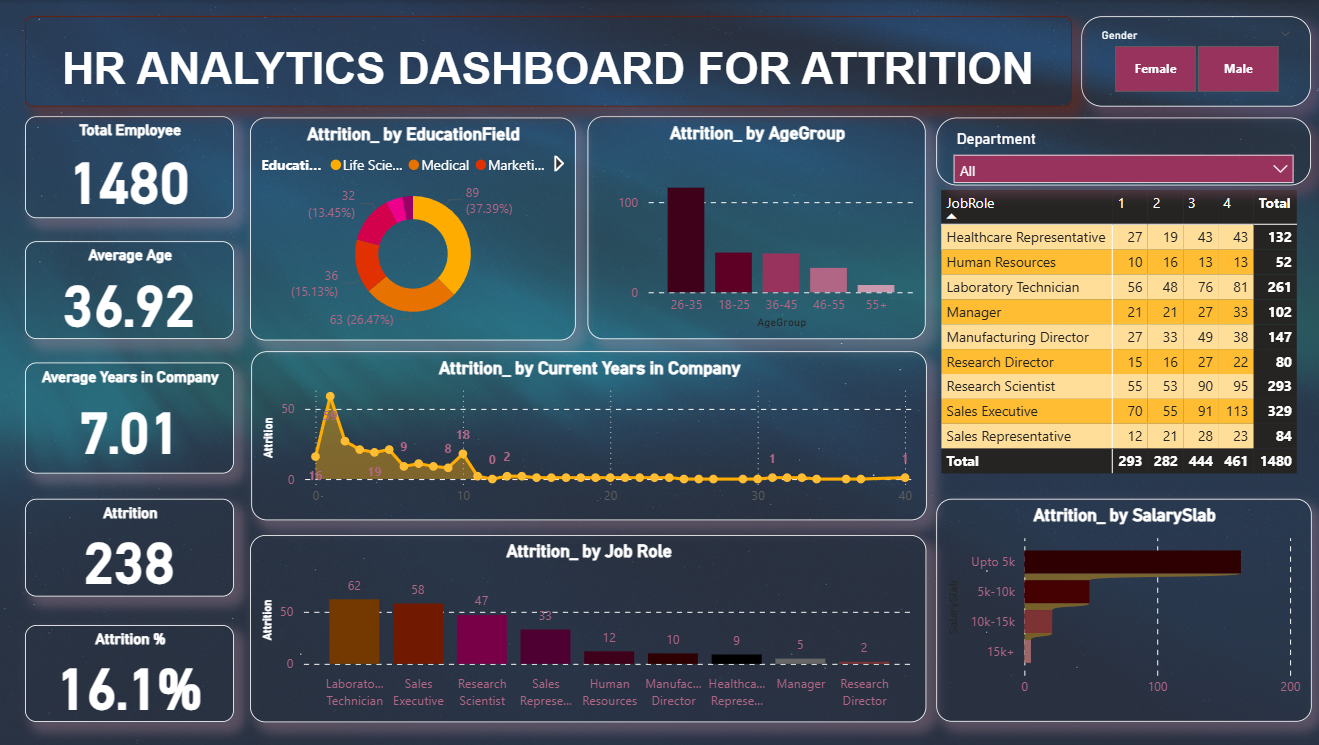

Layout of this report page (visuals, bound fields, positions):
{"tool":"powerbi","page":{"name":"Page 1","canvas":[1280,720],"ordinal":0},"visuals":[{"type":"card","title":"Total Employee","fields":{"Values":["Sum(HR_Analytics.EmployeeCount)"]},"box":[28.8,112.5,201.7,98.8],"z":0},{"type":"card","title":"Attrition","fields":{"Values":["Sum(HR_Analytics.Attrition_)"]},"box":[28.8,481.6,201.7,94.7],"z":1000},{"type":"card","title":"Attrition %","fields":{"Values":["HR_Analytics.Attrition Percentage"]},"box":[28.8,603.8,201.7,93.3],"z":2000},{"type":"card","title":"Average Age","fields":{"Values":["Avg(HR_Analytics.Age)"]},"box":[28.8,234.6,201.7,94.7],"z":3000},{"type":"card","title":"Average Years in Company","fields":{"Values":["Avg(HR_Analytics.YearsAtCompany)"]},"box":[28.8,349.9,201.7,107],"z":4000},{"type":"donutChart","title":"Attrition_ by EducationField","fields":{"Y":["Sum(HR_Analytics.Attrition_)"],"Category":["HR_Analytics.EducationField"]},"box":[245.6,113.9,314.2,215.4],"z":5000},{"type":"columnChart","title":" Attrition_ by AgeGroup","fields":{"Category":["HR_Analytics.AgeGroup"],"Y":["Sum(HR_Analytics.Attrition_)"]},"box":[572.2,112.5,326.6,215.4],"z":6000},{"type":"barChart","title":" Attrition_ by SalarySlab","fields":{"Y":["Sum(HR_Analytics.Attrition_)"],"Category":["HR_Analytics.SalarySlab"]},"box":[908.4,481.6,362.3,215.4],"z":7000},{"type":"columnChart","title":" Attrition_ by Job Role","fields":{"Y":["Sum(HR_Analytics.Attrition_)"],"Category":["HR_Analytics.JobRole"]},"box":[245.6,516,653.2,181.1],"z":8000},{"type":"areaChart","title":" Attrition_ by Current Years in Company","fields":{"Y":["Sum(HR_Analytics.Attrition_)"],"Category":["HR_Analytics.YearsAtCompany"]},"box":[247,338.9,651.8,163.3],"z":9000},{"type":"pivotTable","fields":{"Rows":["HR_Analytics.JobRole"],"Columns":["HR_Analytics.JobSatisfaction"],"Values":["Sum(HR_Analytics.EmployeeCount)"]},"box":[908.6,178.6,371.4,288.6],"z":10000},{"type":"slicer","fields":{"Values":["HR_Analytics.Department"]},"box":[908.6,112.9,361.4,65.7],"z":11000},{"type":"slicer","fields":{"Values":["HR_Analytics.Gender"]},"box":[1048.6,15.7,221.4,87.1],"z":12000},{"type":"textbox","box":[28.6,15.7,1010,87.1],"z":13000}]}

Visuals, with their boxes in screenshot pixels (x1, y1, x2, y2), scaled from the page's 1280x720 canvas onto the 1319x745 screenshot:
"Total Employee" card: <bbox>30, 116, 238, 219</bbox>
"Attrition" card: <bbox>30, 498, 238, 596</bbox>
"Attrition %" card: <bbox>30, 625, 238, 721</bbox>
"Average Age" card: <bbox>30, 243, 238, 341</bbox>
"Average Years in Company" card: <bbox>30, 362, 238, 473</bbox>
"Attrition_ by EducationField" donutChart: <bbox>253, 118, 577, 341</bbox>
" Attrition_ by AgeGroup" columnChart: <bbox>590, 116, 926, 339</bbox>
" Attrition_ by SalarySlab" barChart: <bbox>936, 498, 1309, 721</bbox>
" Attrition_ by Job Role" columnChart: <bbox>253, 534, 926, 721</bbox>
" Attrition_ by Current Years in Company" areaChart: <bbox>255, 351, 926, 520</bbox>
pivotTable - HR_Analytics.JobRole x HR_Analytics.JobSatisfaction: <bbox>936, 185, 1318, 483</bbox>
slicer - HR_Analytics.Department: <bbox>936, 117, 1309, 185</bbox>
slicer - HR_Analytics.Gender: <bbox>1081, 16, 1309, 106</bbox>
textbox: <bbox>29, 16, 1070, 106</bbox>
